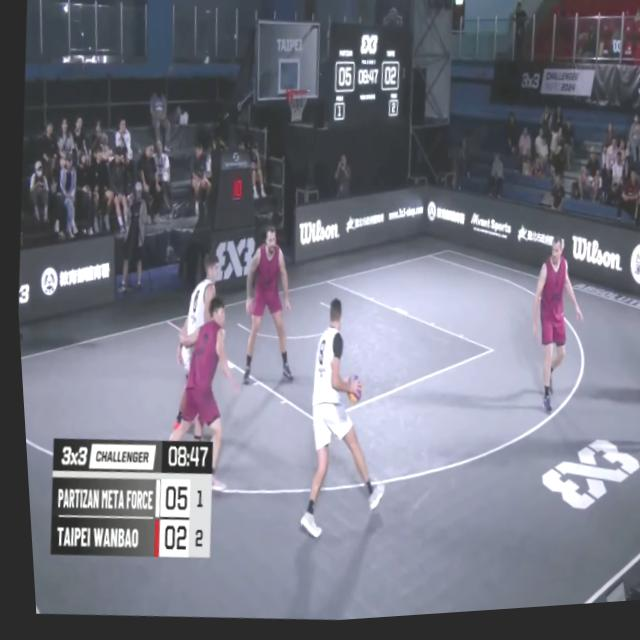ball: (338, 379, 358, 410)
hoop: (281, 90, 309, 128)
player: (282, 296, 391, 549), (151, 296, 247, 494), (159, 249, 229, 465), (518, 241, 590, 428), (230, 231, 298, 394), (631, 248, 640, 455)
